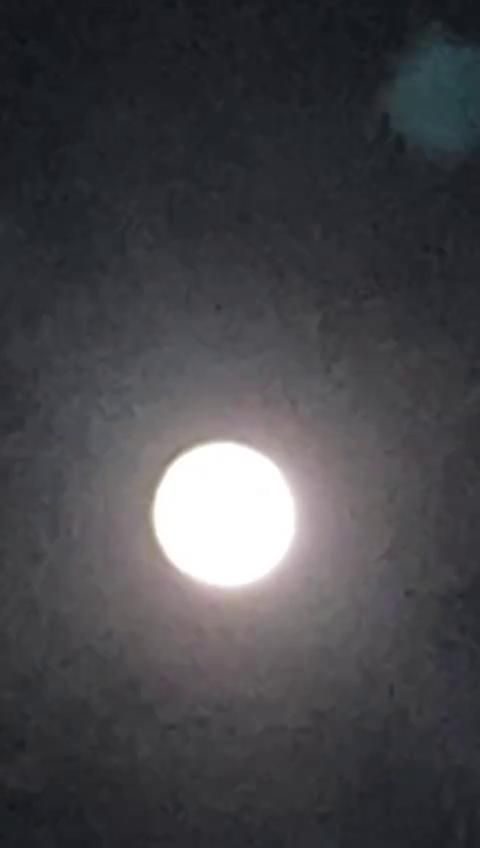moon: (126, 416, 304, 606)
